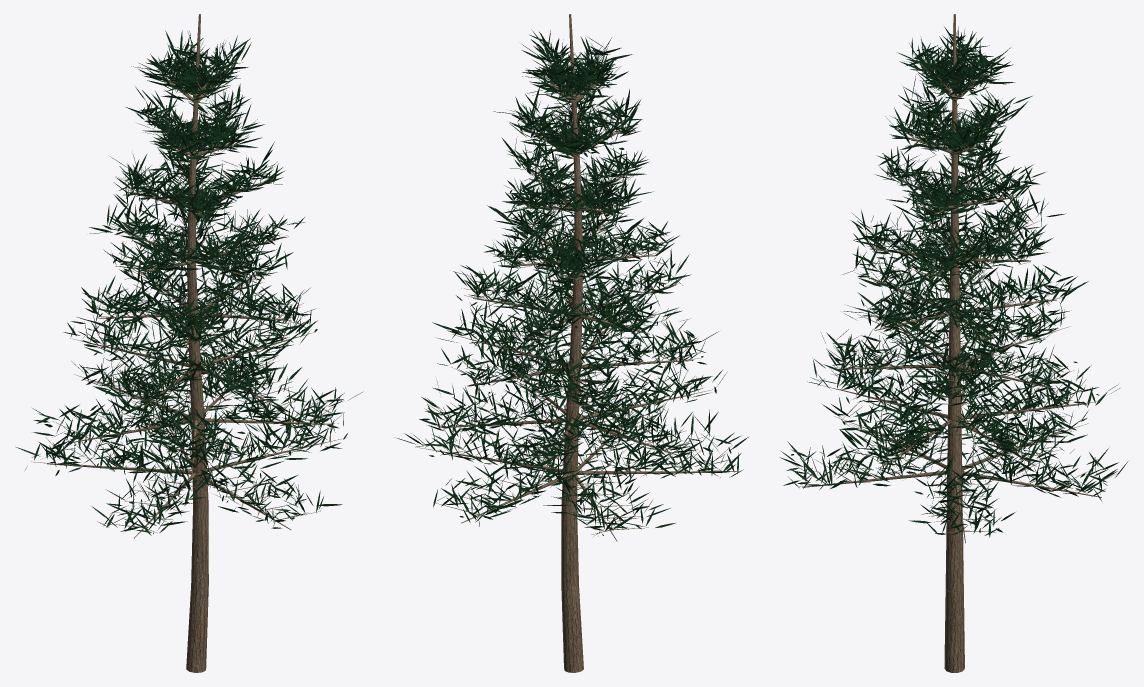
The model's file is pine_2.obj.
The picture shows the model from 3 angles, left to right: view 1: azimuth 30°, elevation 25°; view 2: azimuth 150°, elevation 25°; view 3: azimuth 270°, elevation 25°; orthographic projection.
Parts seen in each view (by area): view 1: Pine_Needles, Tree_Bark; view 2: Pine_Needles, Tree_Bark; view 3: Pine_Needles, Tree_Bark.
Boxes of the visible parts, x1=… form: Pine_Needles: x1=16, y1=30, x2=363, y2=535; Tree_Bark: x1=31, y1=14, x2=347, y2=672; Pine_Needles: x1=397, y1=29, x2=748, y2=536; Tree_Bark: x1=415, y1=14, x2=736, y2=672; Pine_Needles: x1=779, y1=26, x2=1127, y2=537; Tree_Bark: x1=792, y1=14, x2=1116, y2=672.
Size of the model in its own units: 7.43 by 15.51 by 7.53.
Materials: 2 (1 with a texture image).
